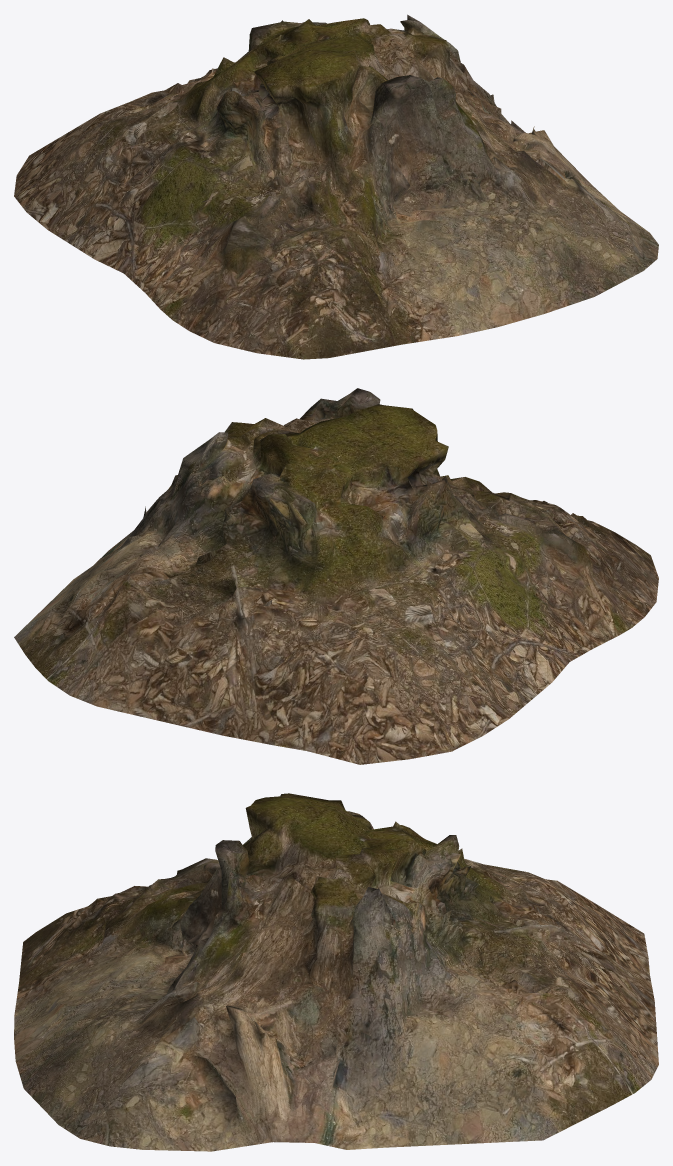
Rendered from tree_stump_01_rt.gltf.
3 views of the same model, one above another, from view 1: azimuth 30°, elevation 25°; view 2: azimuth 150°, elevation 25°; view 3: azimuth 270°, elevation 25° (orthographic). The views are drawn at different scales.
Visible parts, largest first — view 1: tree_stump_01; view 2: tree_stump_01; view 3: tree_stump_01.
Part boxes in pixels (x1,y1,x2,y2): tree_stump_01: (14,14,658,359); tree_stump_01: (14,388,658,764); tree_stump_01: (14,793,658,1151).
Size of the model in its own units: 1.43 by 0.571 by 1.59.
Materials: 1 (1 with a texture image).
